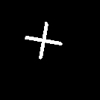single_crochet: (25, 22, 61, 58)
